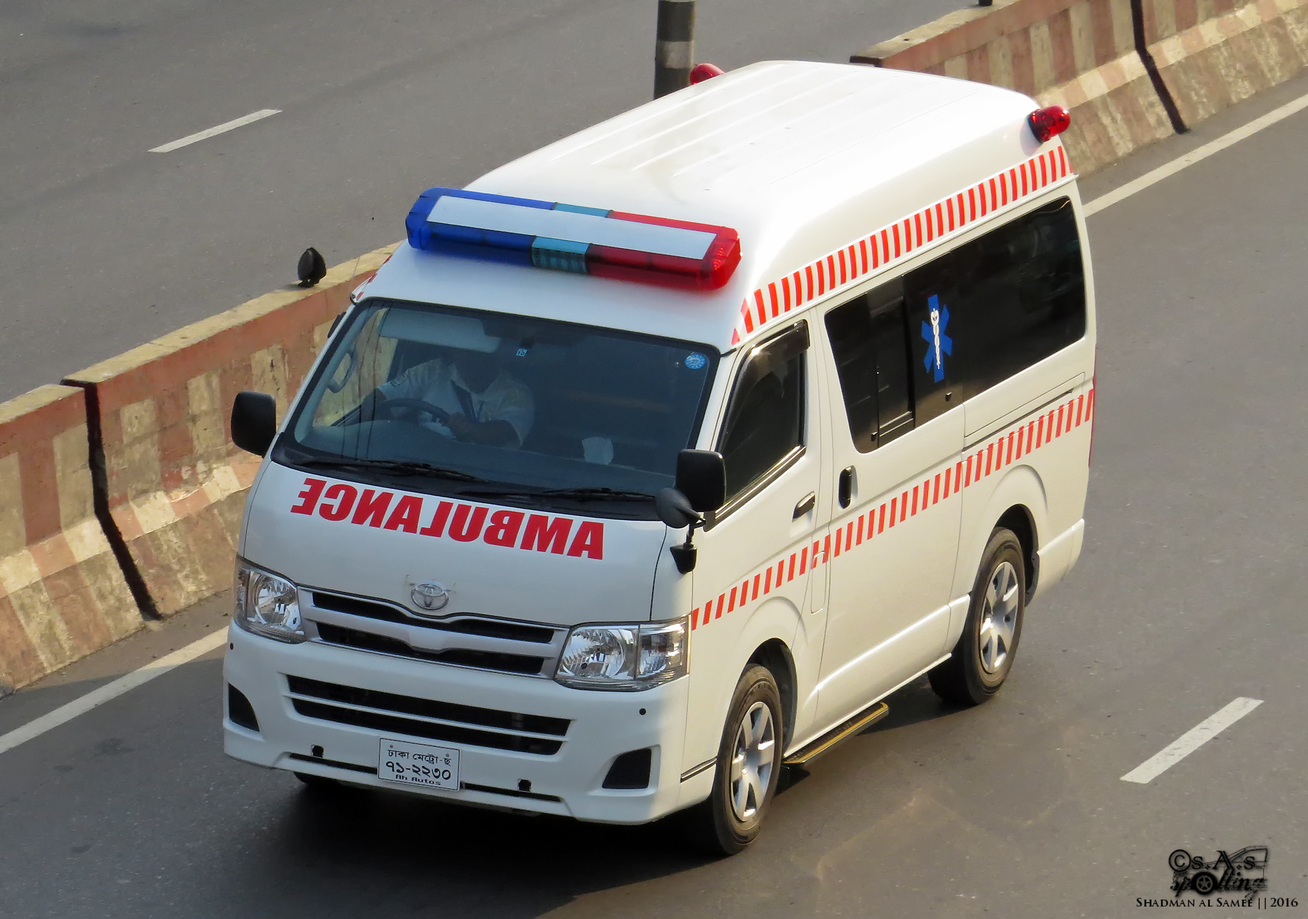Ambulance: (211, 49, 1115, 845)
